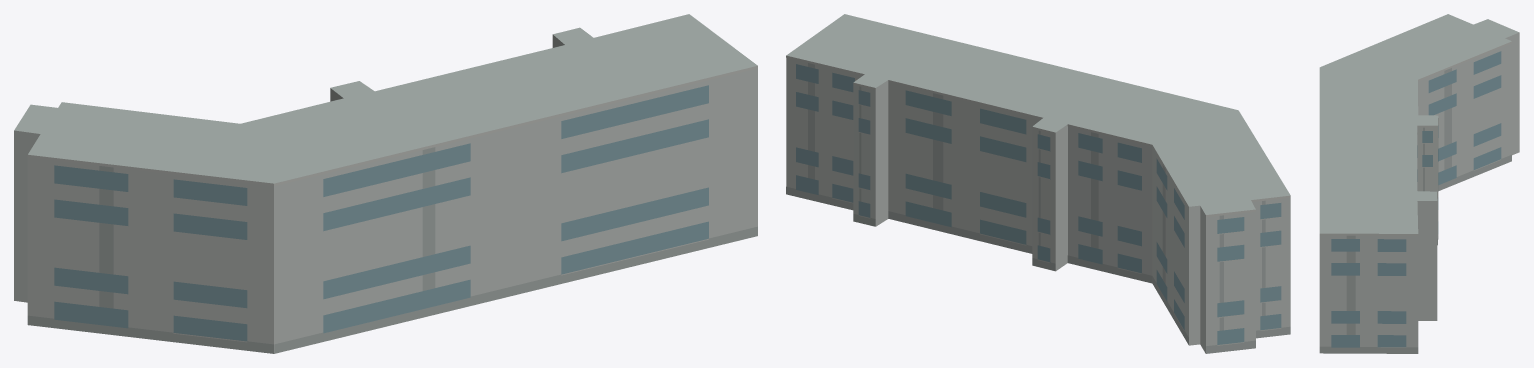
The model's file is survey-upis-32639003.glb.
3 renders of one model, left to right at view 1: azimuth 30°, elevation 25°; view 2: azimuth 150°, elevation 25°; view 3: azimuth 270°, elevation 25°, orthographic. The views are drawn at different scales.
Visible parts, largest first — view 1: survey-upis-32639003.tmp; view 2: survey-upis-32639003.tmp; view 3: survey-upis-32639003.tmp.
Boxes of the visible parts, bbox=[...] form: survey-upis-32639003.tmp: bbox=[14, 14, 757, 353]; survey-upis-32639003.tmp: bbox=[786, 14, 1290, 353]; survey-upis-32639003.tmp: bbox=[1319, 14, 1519, 353].
Bounding box in the file's own units: 60.01 × 15.25 × 23.06.
